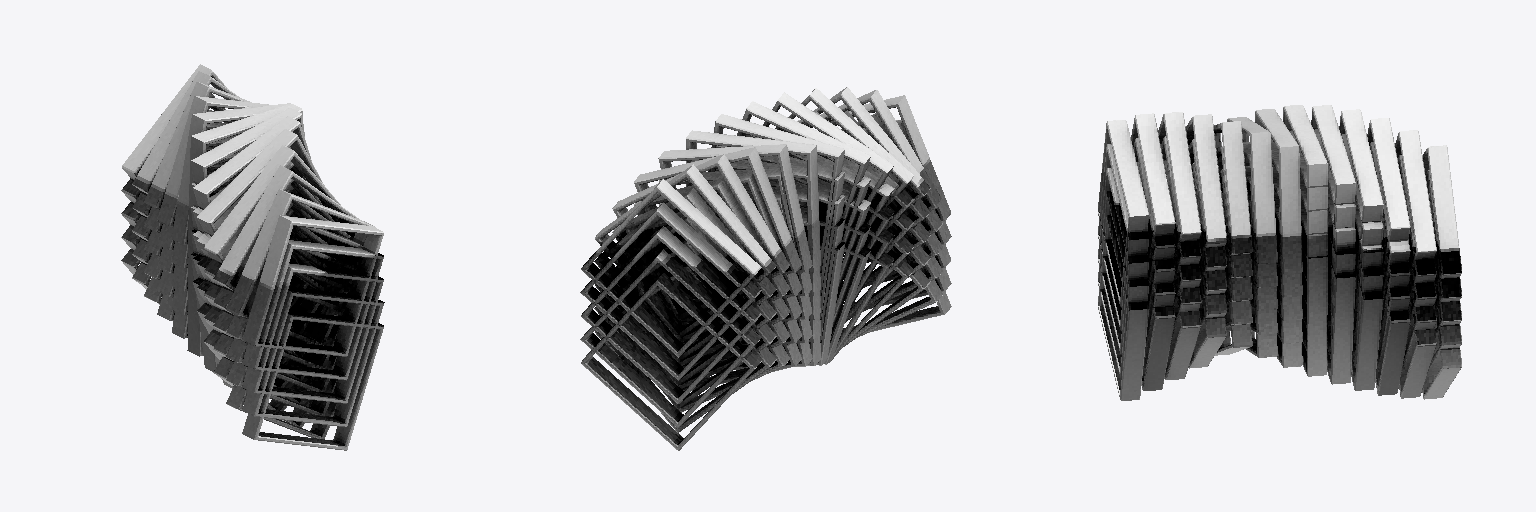
The picture shows the model from 3 angles: view 1: azimuth 30°, elevation 25°; view 2: azimuth 150°, elevation 25°; view 3: azimuth 270°, elevation 25°; orthographic projection.
Parts seen in each view (by area): view 1: thing; view 2: thing; view 3: thing.
Part boxes in pixels (x1,y1,x2,y2): thing: (121, 64, 384, 450); thing: (580, 87, 951, 450); thing: (1098, 105, 1461, 400).
Size of the model in its own units: 14.93 by 19.95 by 23.64.
1 materials, 1 textured.